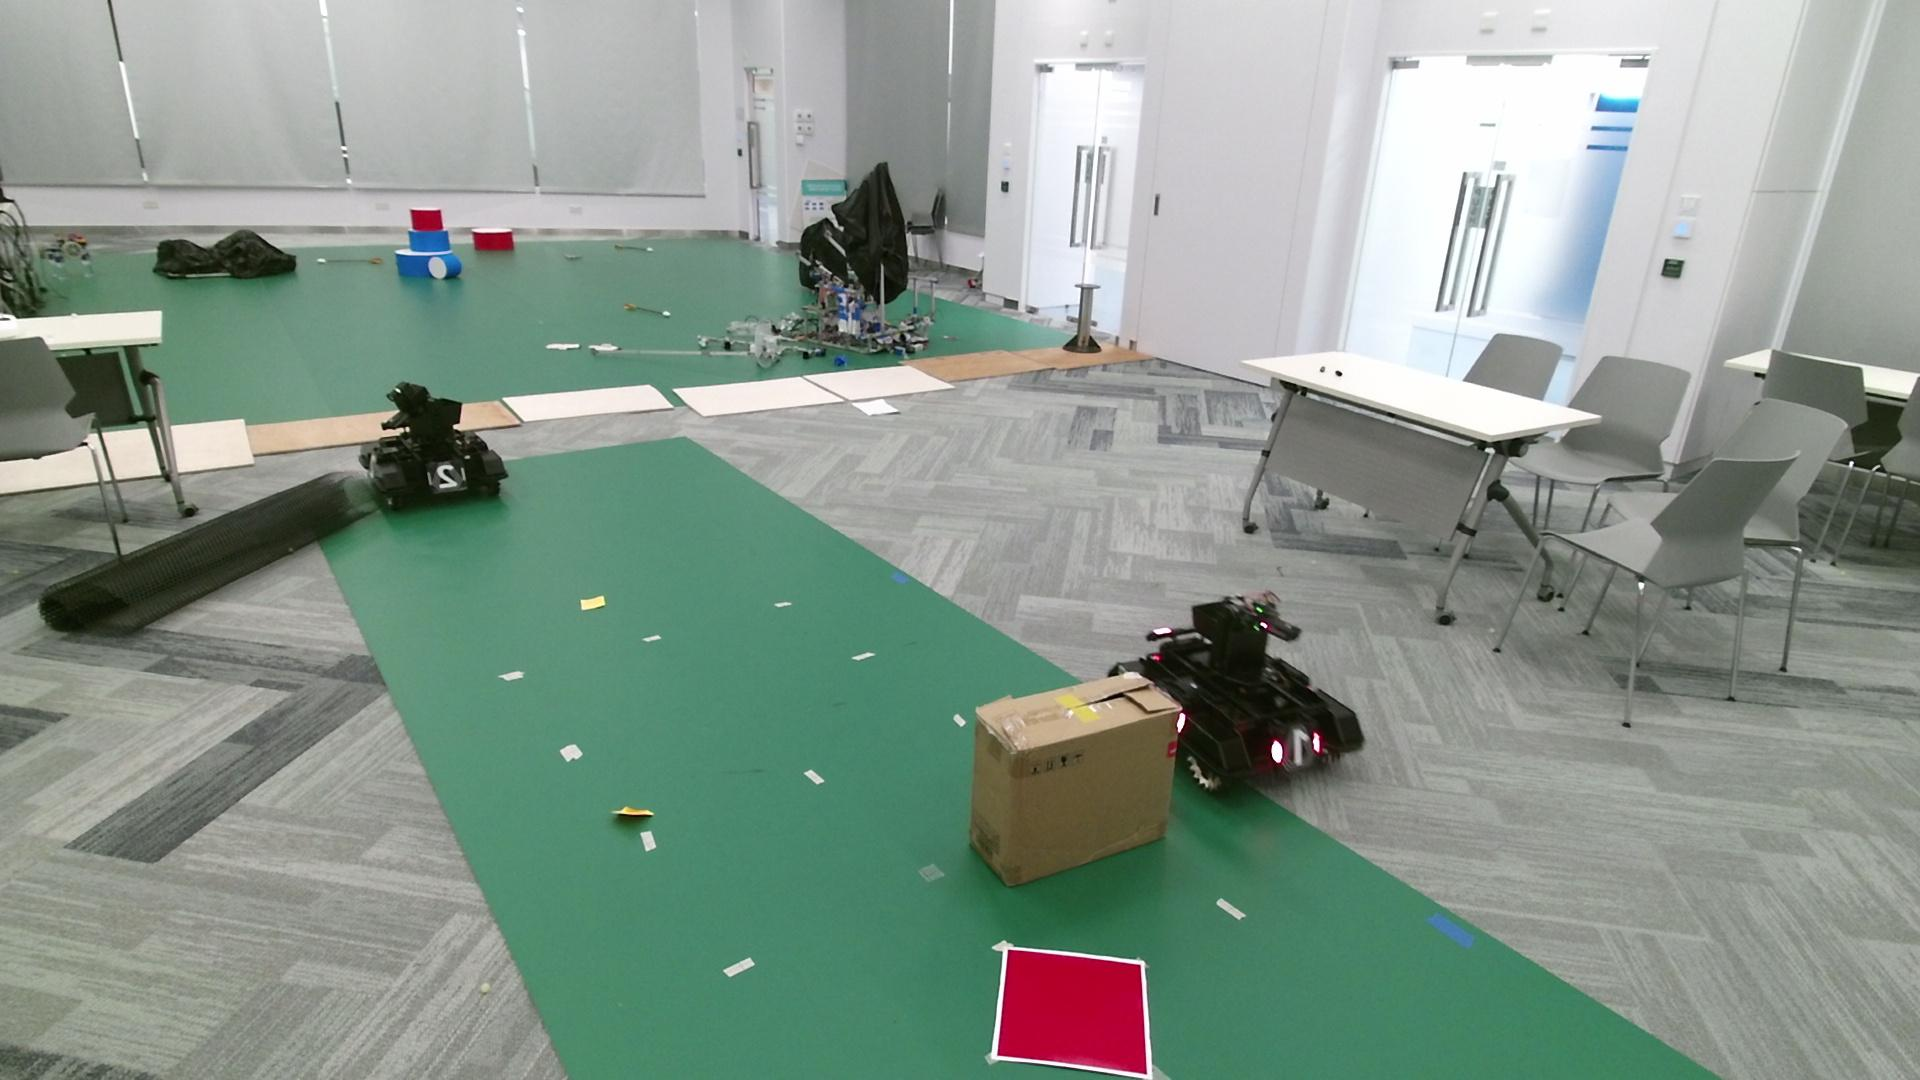robot: (1106, 589, 1365, 793), (357, 380, 509, 509)
